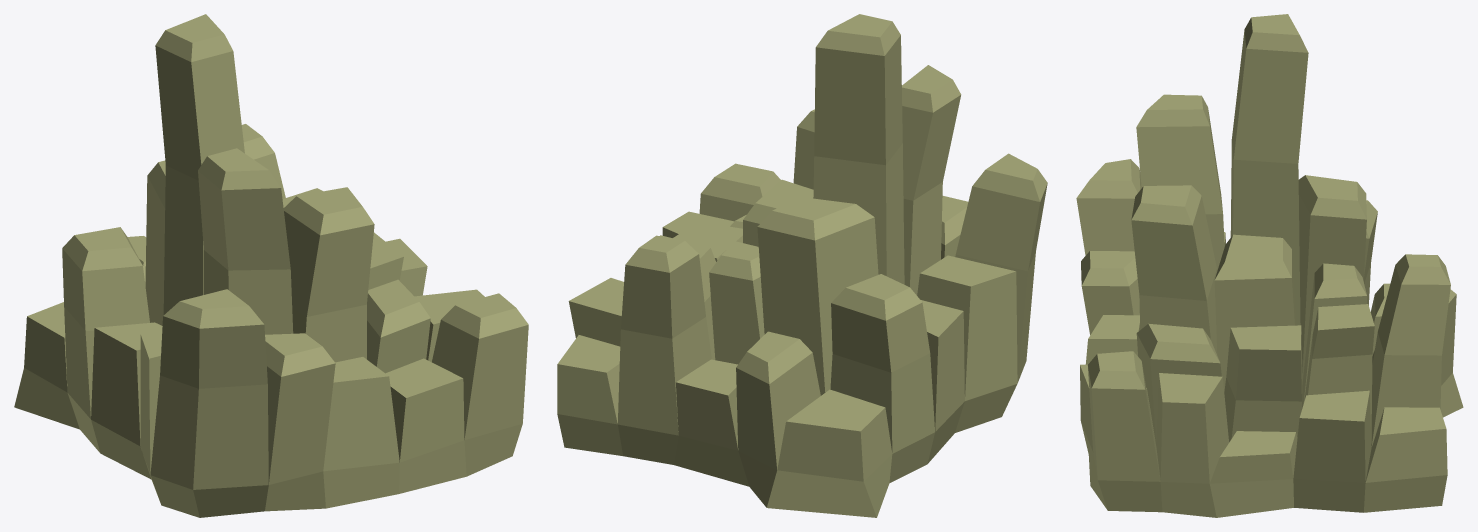
File: StoneBig.FBX
3 views of the same model, side by side, from view 1: azimuth 30°, elevation 25°; view 2: azimuth 150°, elevation 25°; view 3: azimuth 270°, elevation 25° (orthographic). The views are drawn at different scales.
Visible parts, largest first — view 1: StoneBig; view 2: StoneBig; view 3: StoneBig.
Part boxes in pixels (box(x1,y1,x2,y2)): StoneBig: box(14, 14, 528, 517); StoneBig: box(557, 14, 1047, 517); StoneBig: box(1076, 14, 1463, 517).
Bounding box in the file's own units: 424 × 469 × 428.
